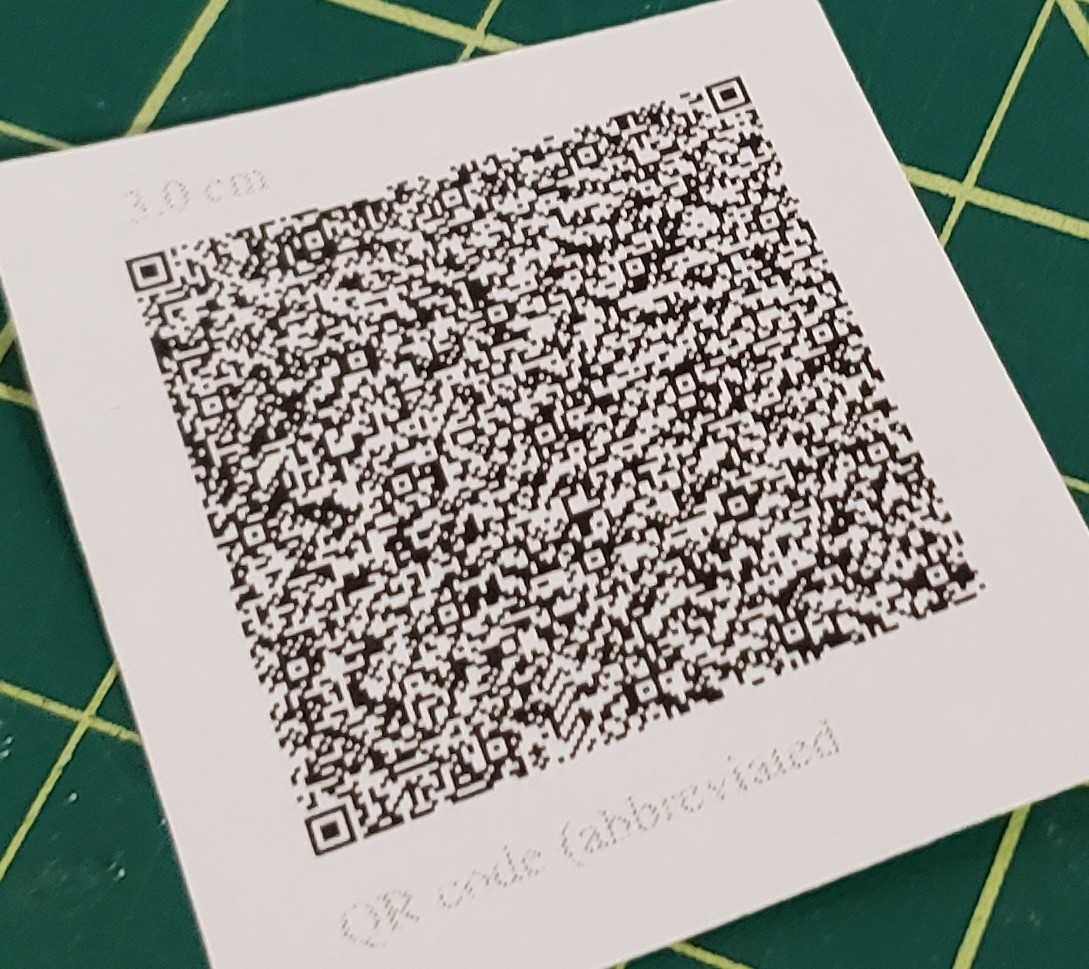QR_CODE: (92, 22, 1024, 871)
